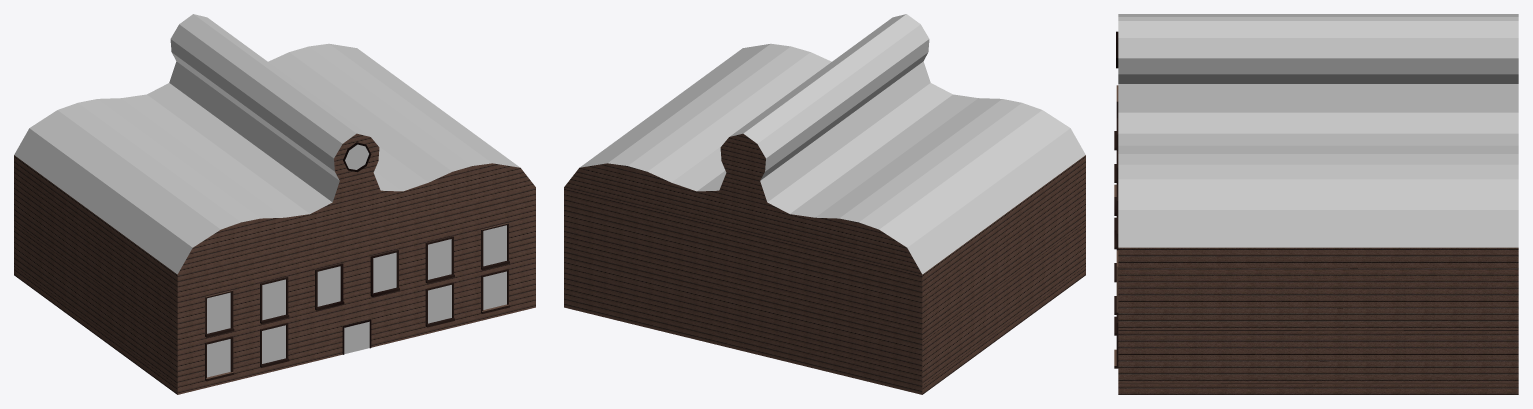
Rendered from mansion.fbx.
3 views of the same model, side by side, from view 1: azimuth 30°, elevation 25°; view 2: azimuth 150°, elevation 25°; view 3: azimuth 270°, elevation 25° (orthographic). The views are drawn at different scales.
Parts seen in each view (by area): view 1: Cube; view 2: Cube; view 3: Cube.
Part boxes in pixels (x1=…): Cube: x1=14, y1=14, x2=535, y2=394; Cube: x1=564, y1=14, x2=1085, y2=394; Cube: x1=1114, y1=14, x2=1518, y2=394.
Size of the model in its own units: 2796 by 1623 by 2230.
